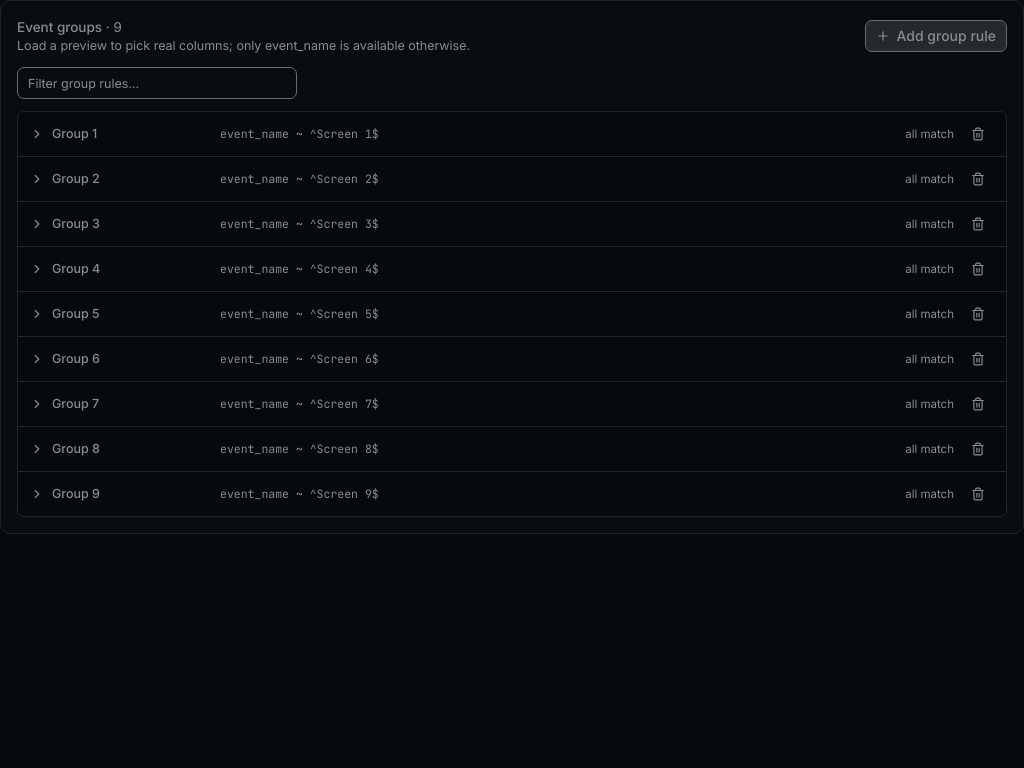
Test: EventGroupRulesEditor — one line per rule (#247) › offers a filter once there are more than eight rules
Step 1. Type "Screen 9" into the search field labelled "Filter group rules" → (157, 83), box [17,67,297,99]
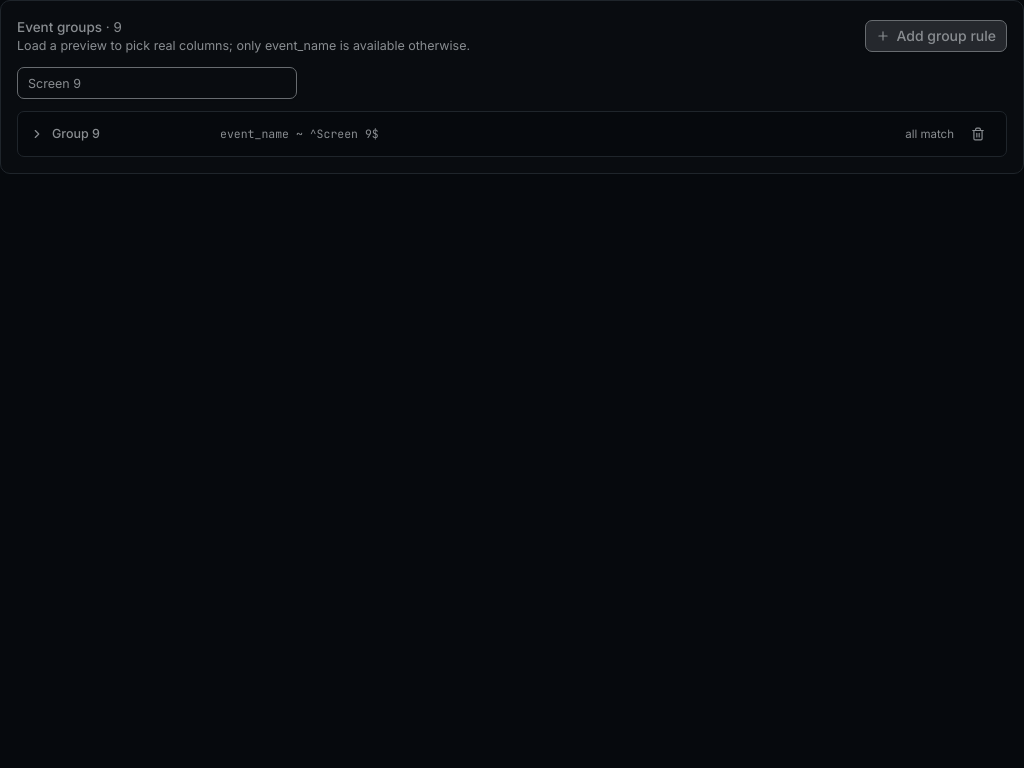
Check: the text "Group 9" is shown, box [52,126,100,141]
Check: the button "Group 1" is gone
